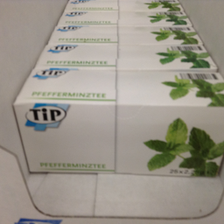tea: (10, 66, 224, 180)
